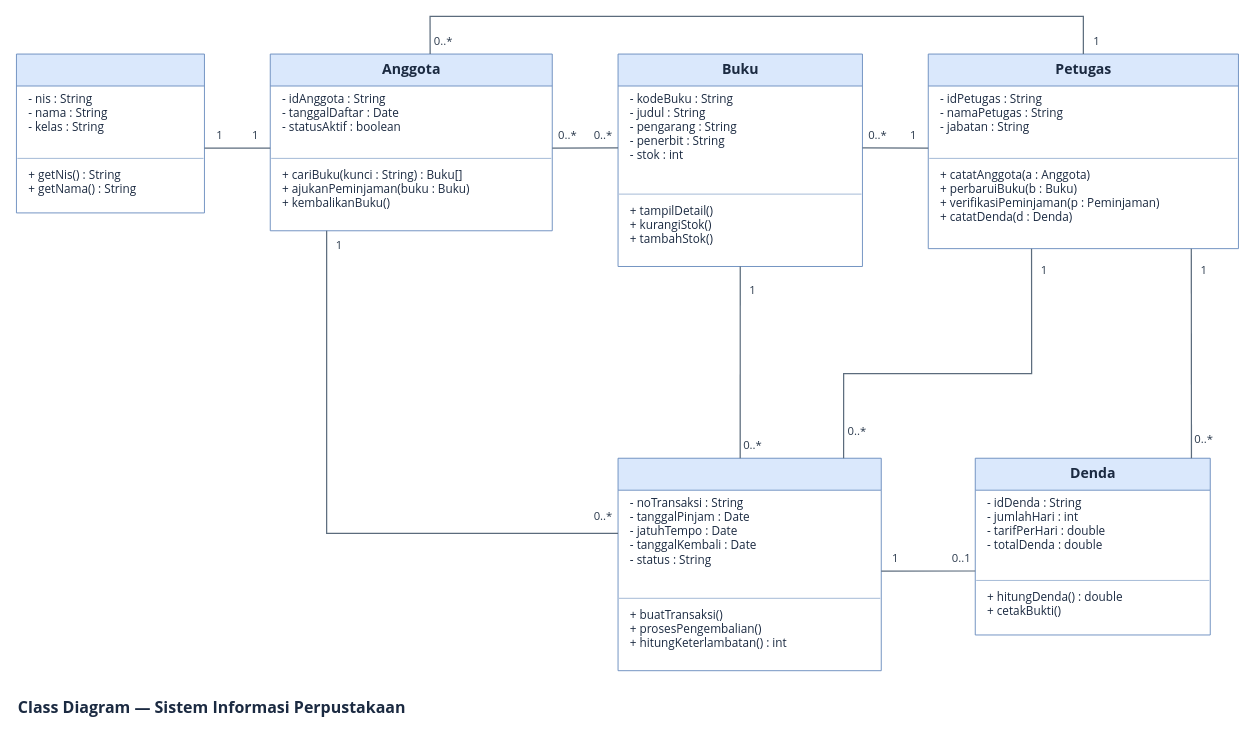
The diagram is 1255 pixels wide and 738 high, and some of its shapes have lost their labels. Each missing label, with the box of its shape:
Peminjaman: (617, 457, 881, 671)
Siswa: (16, 53, 204, 213)
